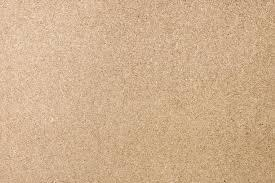Cardboard: (1, 4, 275, 183)
